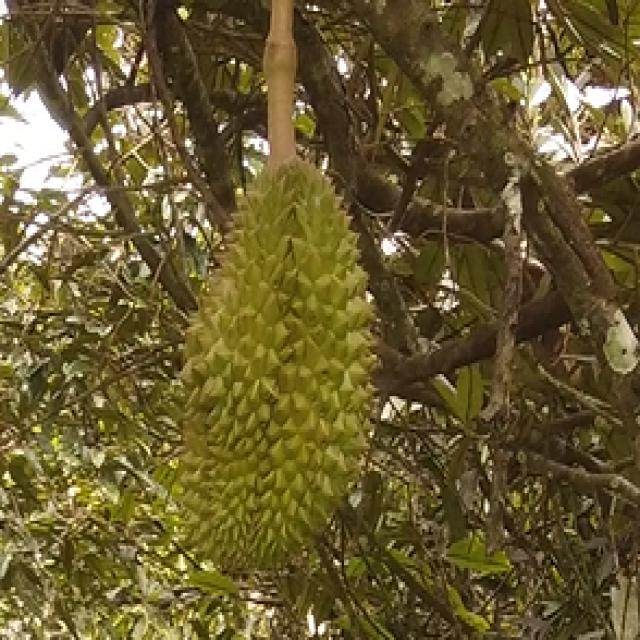immature: (174, 158, 378, 562)
